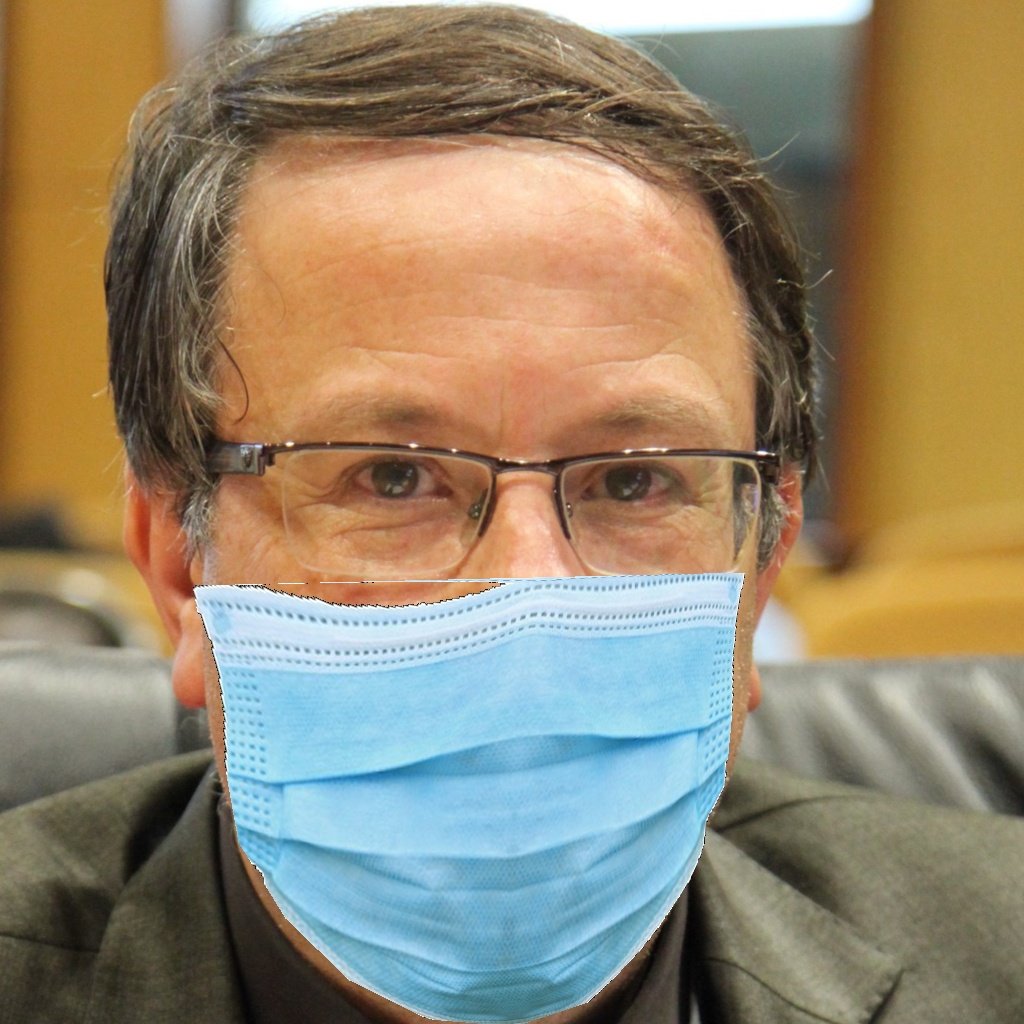Mask: (193, 362, 783, 1024)
